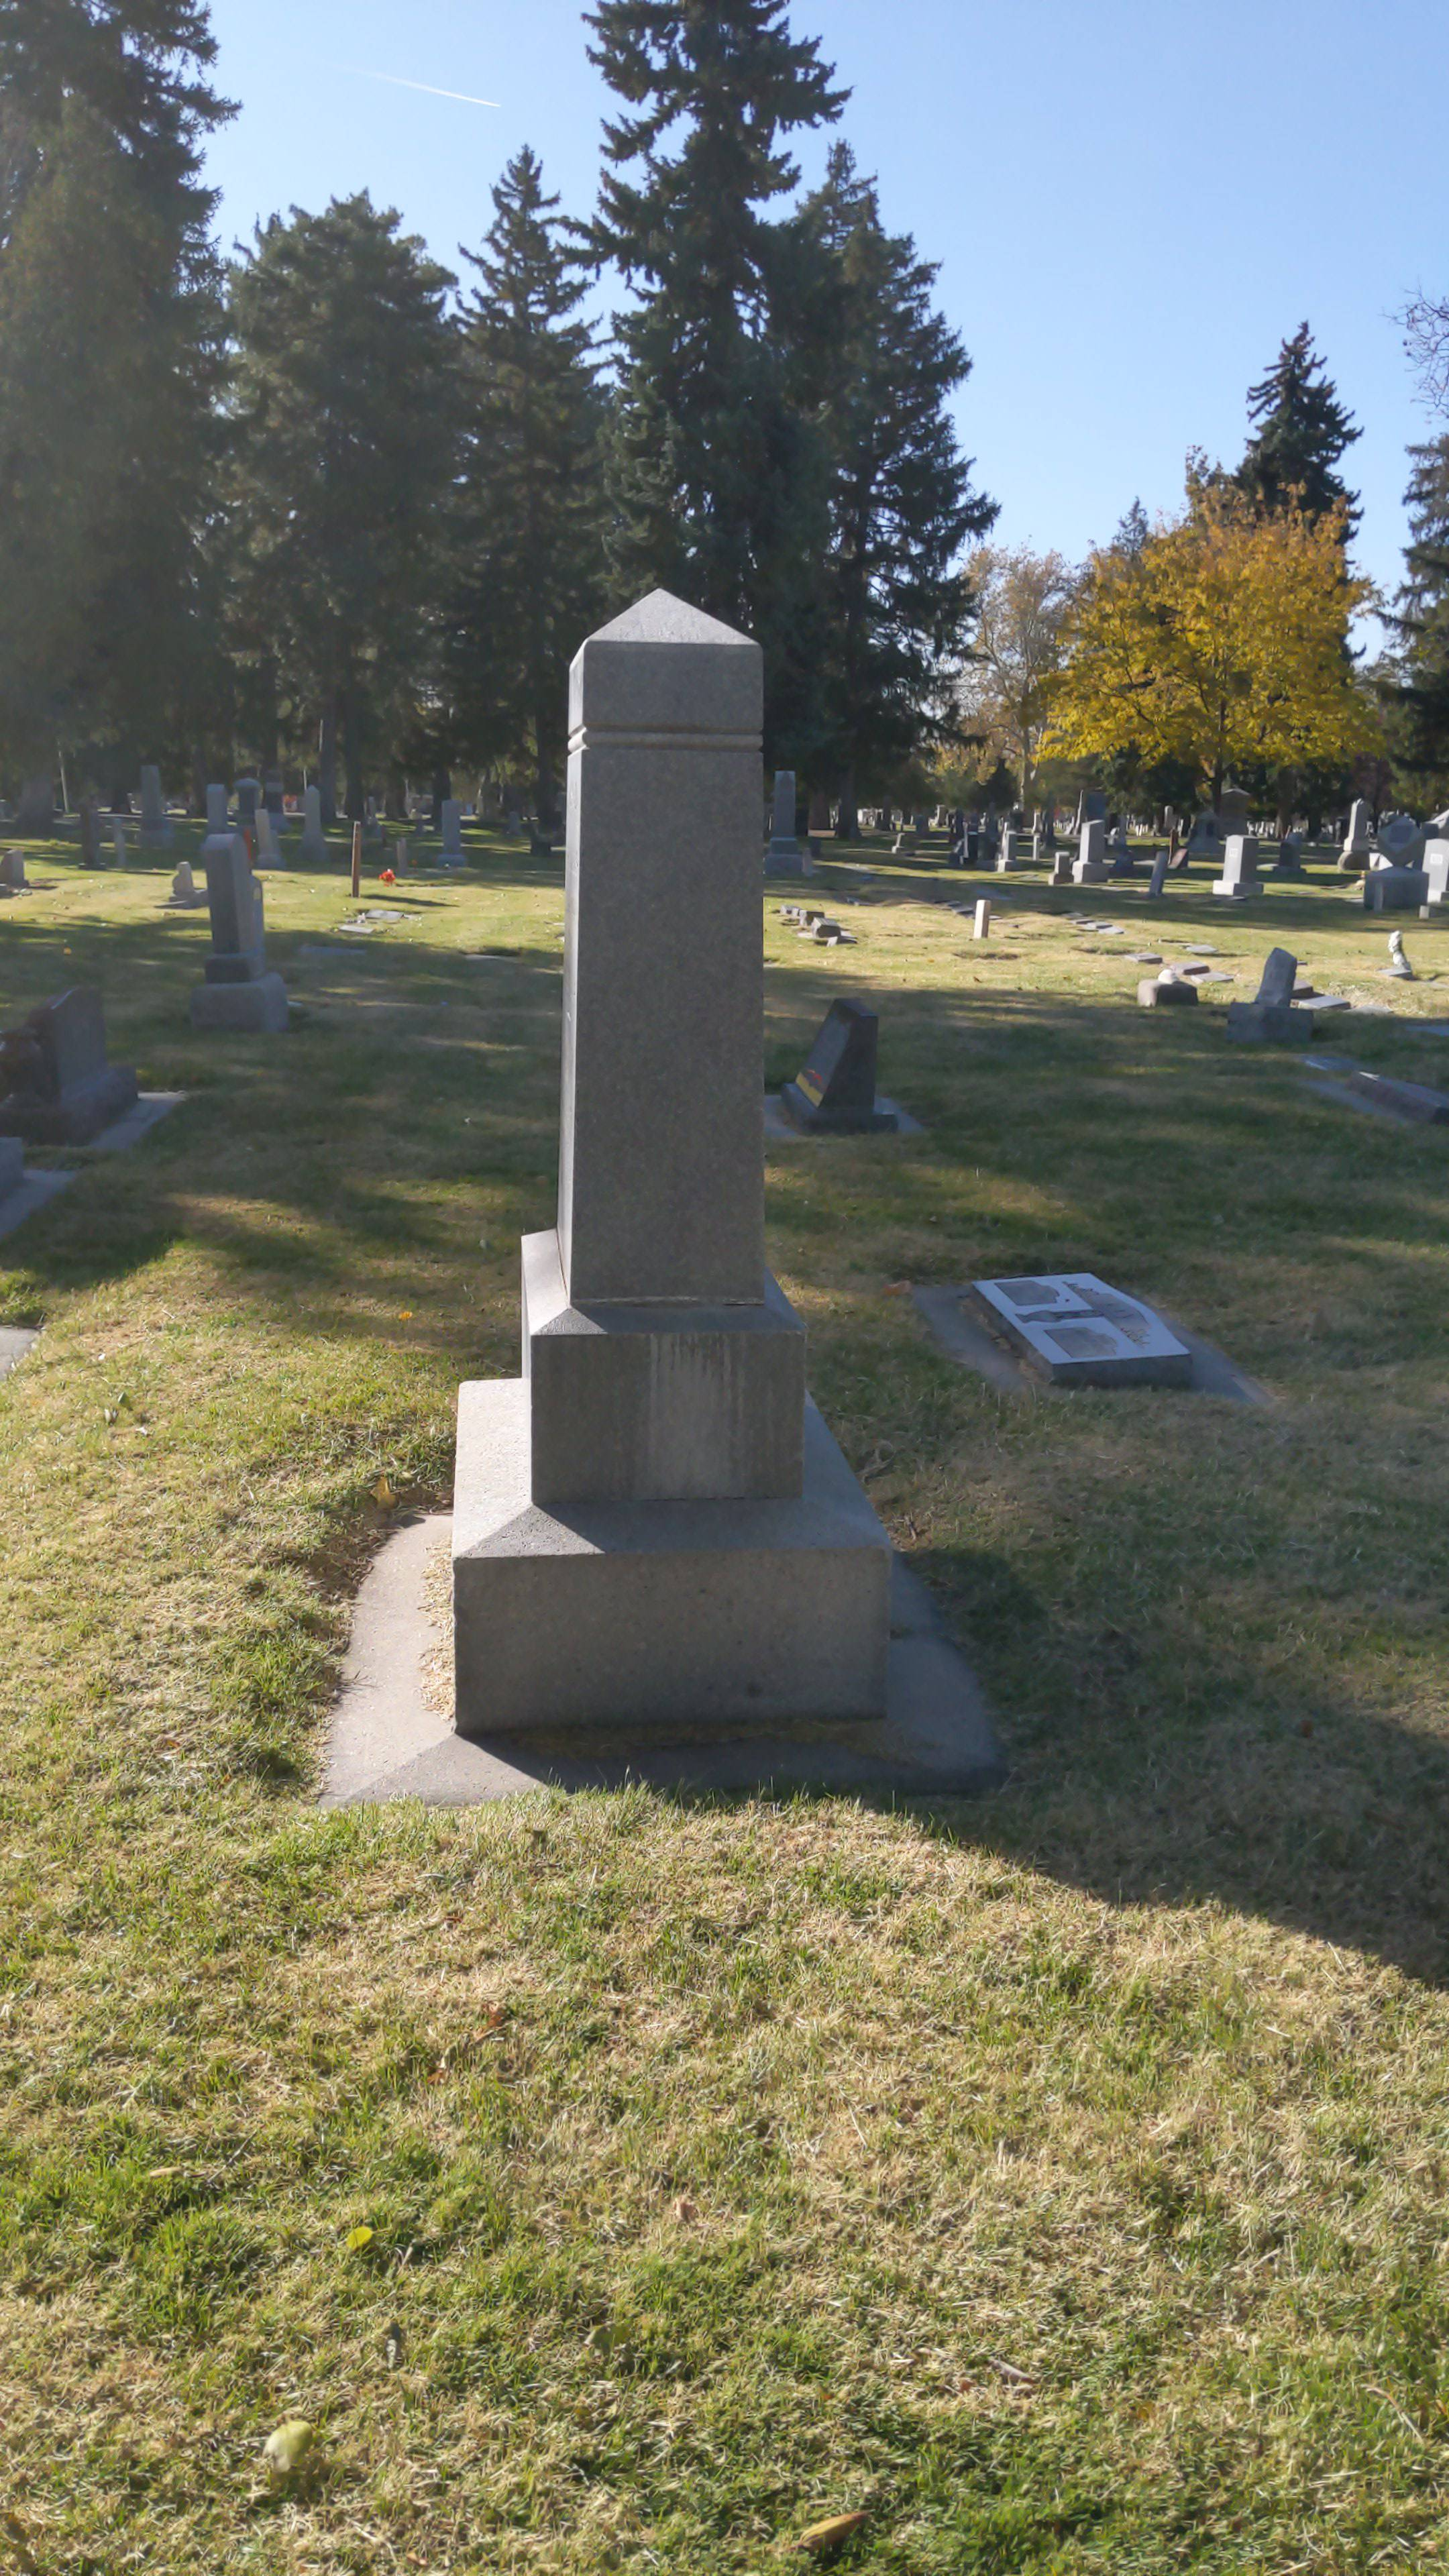obelisk: (520, 596, 803, 1502)
